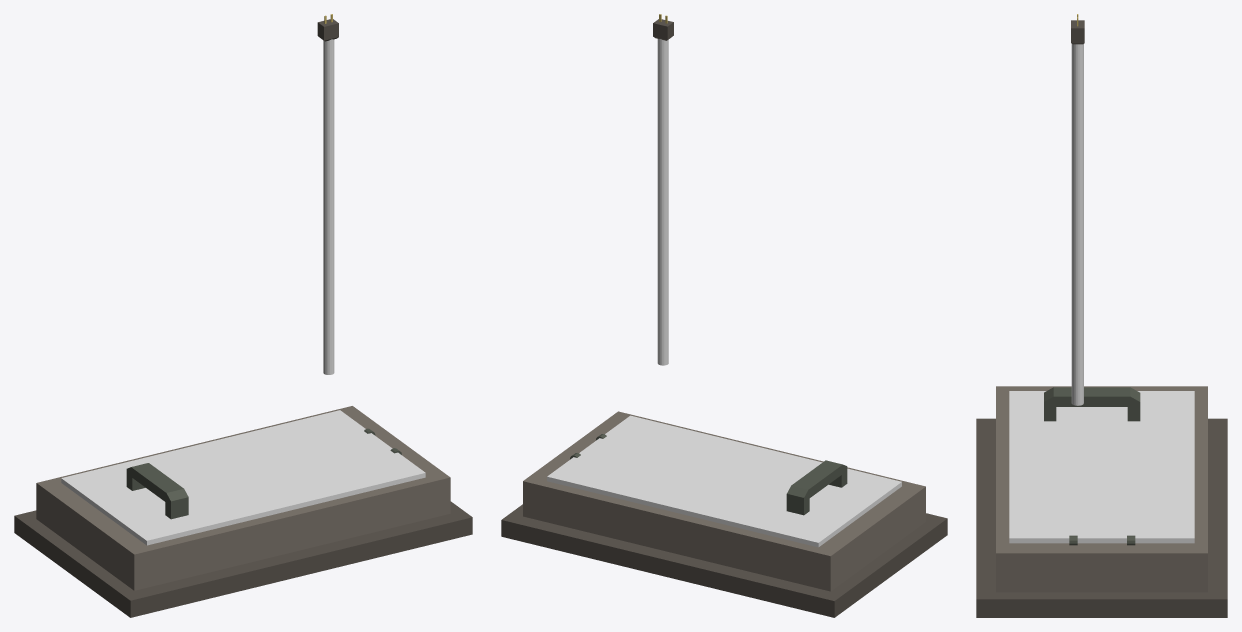
3 views of the same model, side by side, from view 1: azimuth 30°, elevation 25°; view 2: azimuth 150°, elevation 25°; view 3: azimuth 270°, elevation 25° (orthographic). The views are drawn at different scales.
Visible parts, largest first — view 1: F_Box_01, F_Glass_01, Cylinder.009, F_Handle_01; view 2: F_Box_01, F_Glass_01, Cylinder.009, F_Handle_01; view 3: F_Box_01, F_Glass_01, Cylinder.009, F_Handle_01, plug.
Part boxes in pixels (box(x1,y1,x2,y2)): F_Box_01: box(14, 406, 472, 617); F_Glass_01: box(61, 410, 425, 545); Cylinder.009: box(323, 39, 334, 374); F_Handle_01: box(126, 463, 188, 519); F_Box_01: box(501, 411, 947, 617); F_Glass_01: box(547, 415, 901, 547); Cylinder.009: box(657, 39, 668, 365); F_Handle_01: box(786, 460, 847, 515); F_Box_01: box(976, 386, 1227, 617); F_Glass_01: box(1009, 391, 1194, 543); Cylinder.009: box(1071, 44, 1083, 405); F_Handle_01: box(1044, 387, 1140, 421); plug: box(1071, 14, 1084, 44).
Bounding box in the file's own units: 613 × 870 × 360.
Materials: 1 (1 with a texture image).
